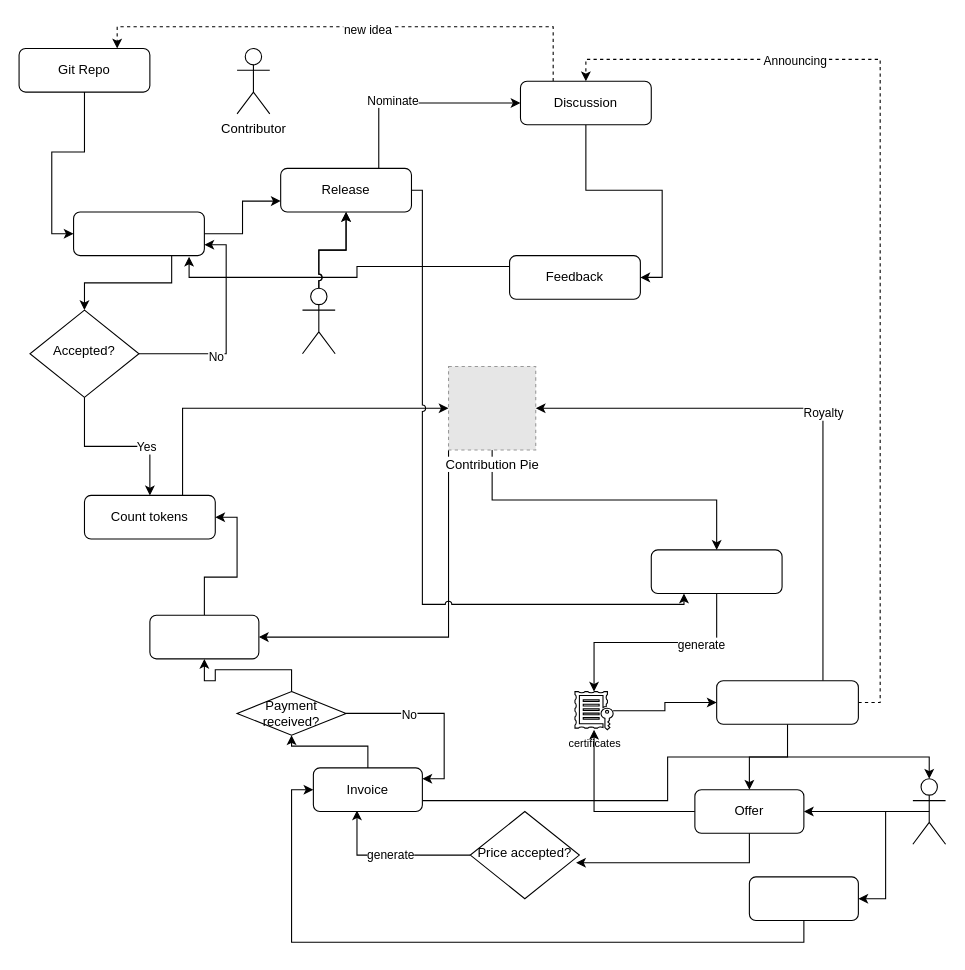
The diagram is 965 pixels wide and 970 high, and some of its shapes have lost their labels. Grey dashed boxes stand in for pictures. The shapes that lost their labels are listed below. From the top down, each one's centre as x and y in pixels, then its label:
pixel 138 233: Contribution
pixel 318 320: Admin
pixel 716 571: Mint
pixel 204 636: Distribute
pixel 787 702: Listing
pixel 929 811: Buyer
pixel 803 898: Payment
